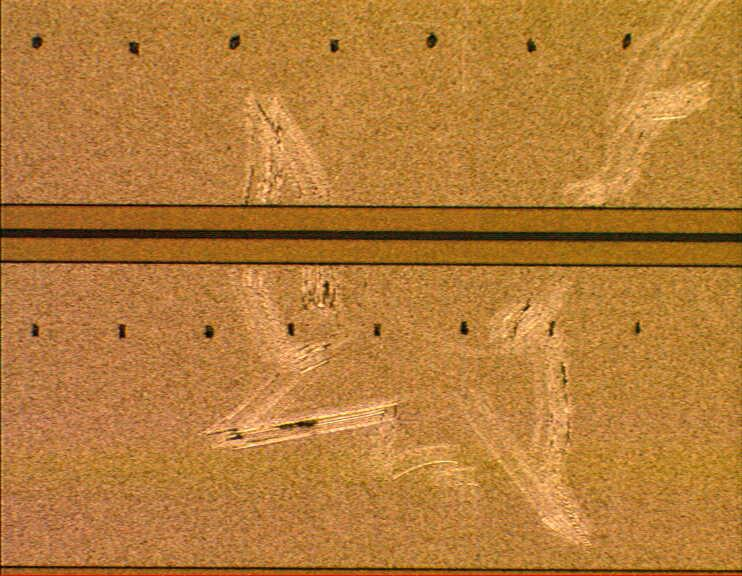SCRATCH: (194, 1, 736, 550)
